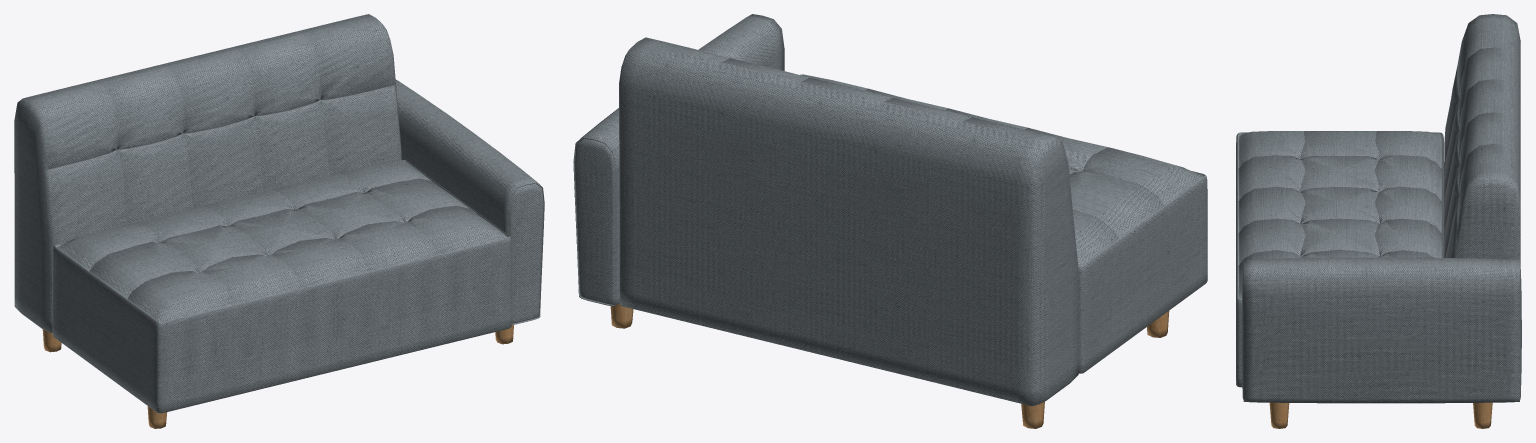
Rendered from design3.obj.
3 renders of one model, left to right at view 1: azimuth 30°, elevation 25°; view 2: azimuth 150°, elevation 25°; view 3: azimuth 270°, elevation 25°, orthographic. The views are drawn at different scales.
Parts seen in each view (by area): view 1: Box018, Object004, Object005, Box016; view 2: Object004, Box018, Object005, Box016; view 3: Object005, Box018, Object004, Box016.
Part boxes in pixels (x1,y1,x2,y2): Box018: (52,160,511,413); Object004: (14,14,401,333); Object005: (395,79,544,324); Box016: (42,324,513,428); Object004: (619,37,1078,405); Box018: (800,74,1207,373); Object005: (573,14,784,306); Box016: (610,303,1169,428); Object005: (1241,257,1521,403); Box018: (1236,131,1443,387); Object004: (1444,14,1520,264); Box016: (1269,402,1492,428).
Bounding box in the file's own units: 1217 × 732 × 789.
2 materials, 2 textured.
